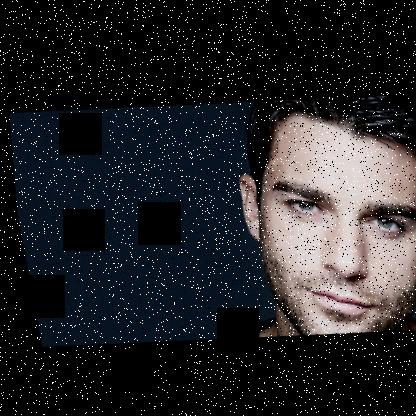Male: (221, 96, 416, 341)
